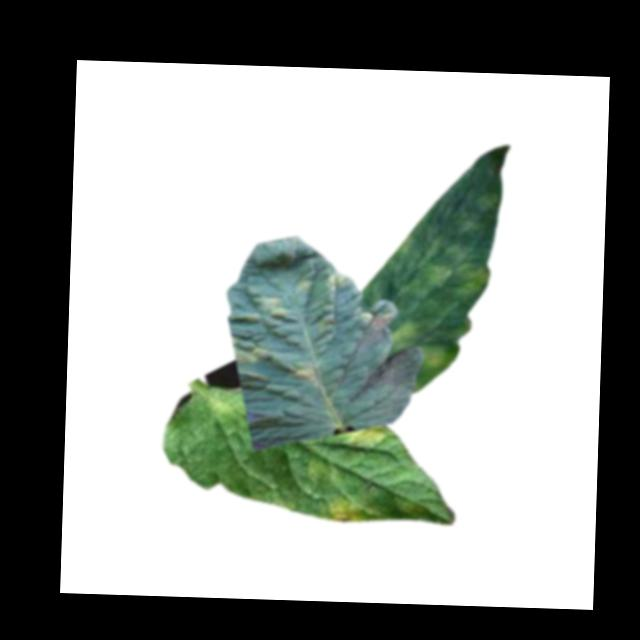Leaf_Mold: (392, 234, 493, 302), (225, 334, 275, 370), (343, 416, 387, 449), (387, 317, 422, 356), (250, 289, 292, 321), (287, 356, 325, 388), (329, 494, 366, 524), (422, 340, 453, 370), (321, 269, 355, 293), (293, 275, 315, 294)
